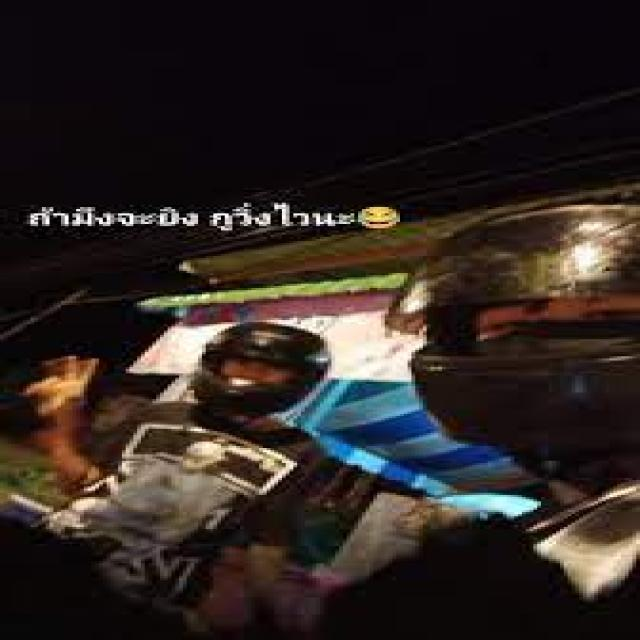helmet: (407, 200, 640, 460), (187, 321, 341, 412)
